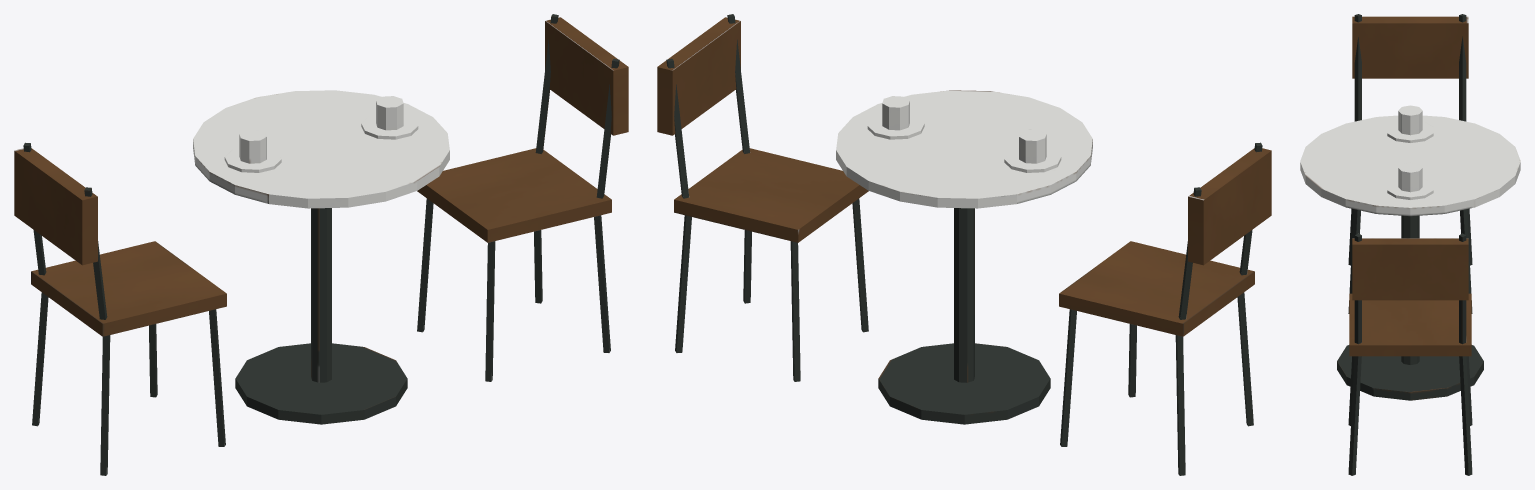
The model's file is stolek_kavarna_175b81c4.glb.
3 views of the same model, side by side, from view 1: azimuth 30°, elevation 25°; view 2: azimuth 150°, elevation 25°; view 3: azimuth 270°, elevation 25° (orthographic). The views are drawn at different scales.
Visible parts, largest first — view 1: dum; view 2: dum; view 3: dum.
Boxes of the visible parts, left/top/right/bottom form: dum: left=14, top=14, right=628, bottom=475; dum: left=657, top=14, right=1271, bottom=475; dum: left=1300, top=14, right=1520, bottom=475.
Bounding box in the file's own units: 1.76 × 0.8797 × 0.7182.
1 material, 1 textured.
